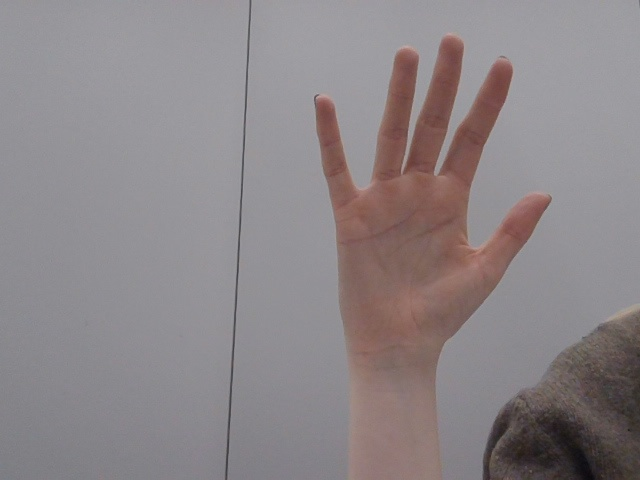nada: (291, 24, 570, 357)
